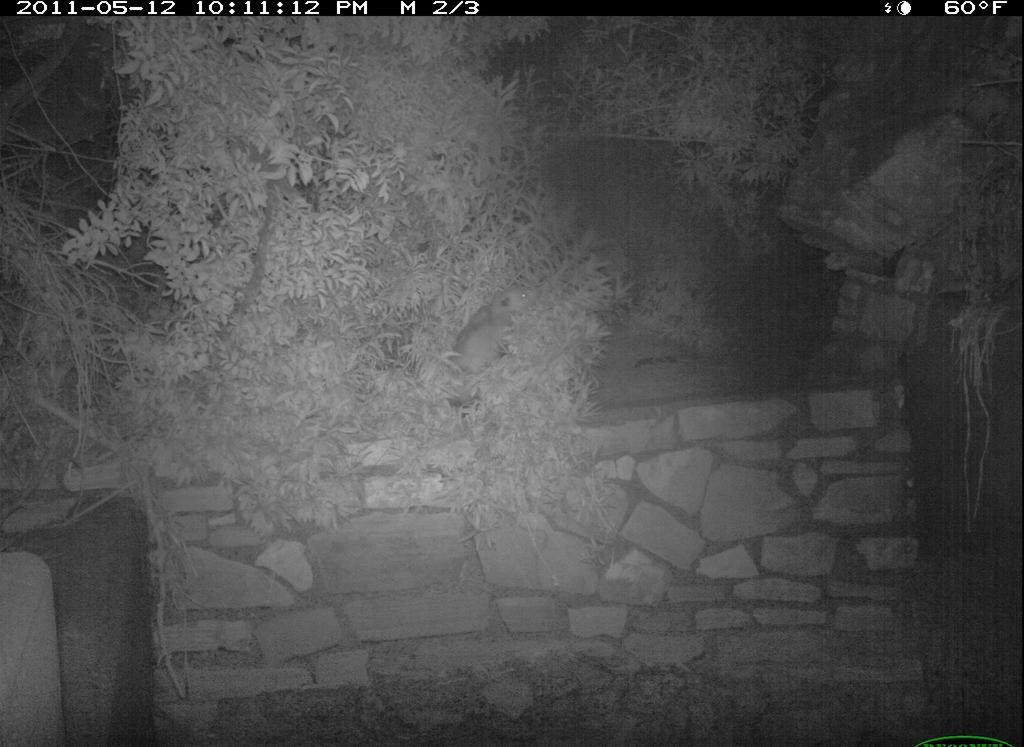opossum: (437, 277, 546, 388)
